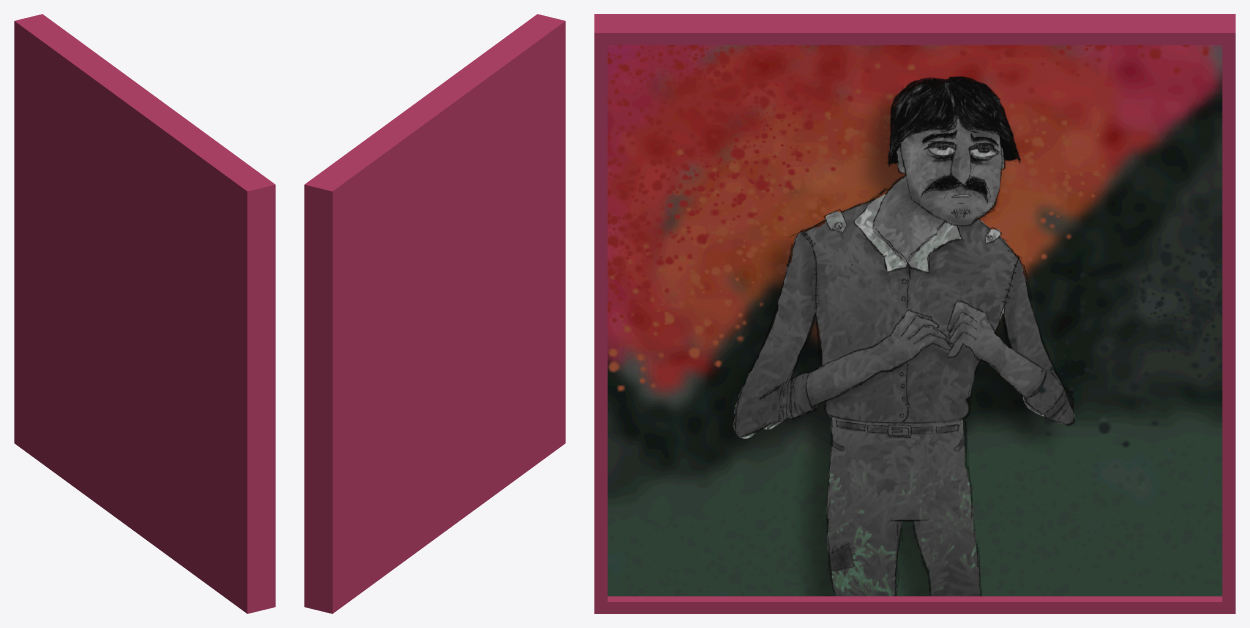
File: selfie.fbx
3 views of the same model, side by side, from view 1: azimuth 30°, elevation 25°; view 2: azimuth 150°, elevation 25°; view 3: azimuth 270°, elevation 25° (orthographic). The views are drawn at different scales.
Visible parts, largest first — view 1: Cube; view 2: Cube; view 3: Cube.
Boxes of the visible parts, bbox=[...] form: Cube: bbox=[14, 14, 275, 613]; Cube: bbox=[304, 14, 565, 613]; Cube: bbox=[594, 14, 1235, 613].
Bounding box in the file's own units: 68.2 × 977 × 977.
